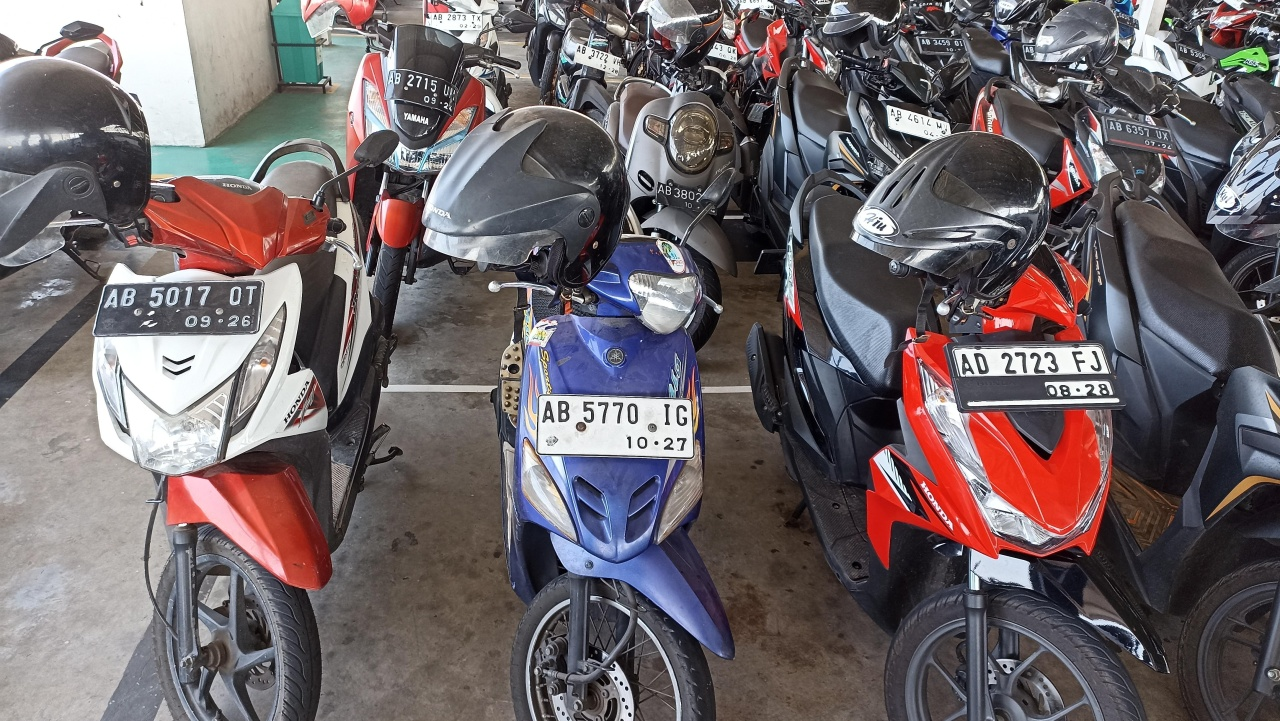plate: (946, 342, 1124, 412), (536, 394, 694, 459), (91, 280, 263, 336), (383, 69, 458, 117), (1104, 116, 1176, 155), (888, 105, 952, 145), (573, 43, 622, 76), (432, 12, 482, 31), (918, 37, 969, 54)
